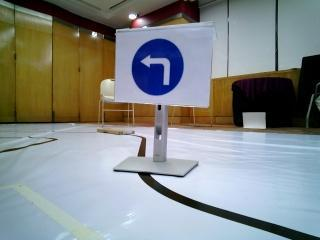left: (123, 29, 205, 104)
